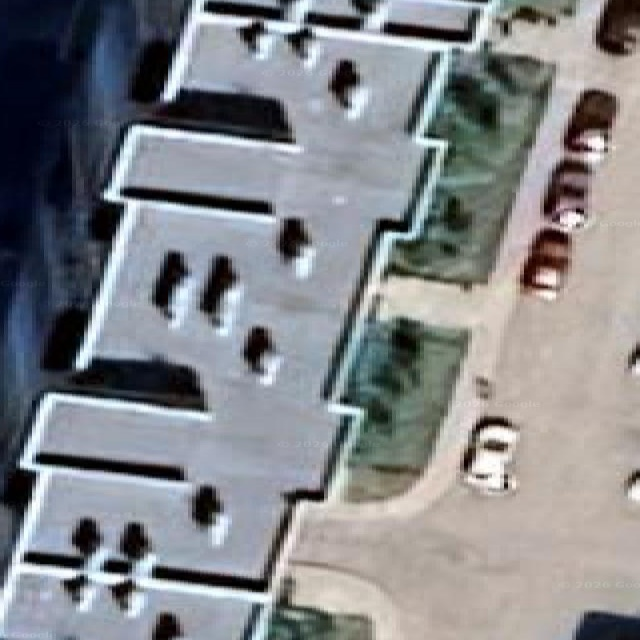car: (462, 419, 518, 494), (564, 89, 617, 163), (521, 228, 570, 299), (543, 159, 591, 231), (596, 0, 640, 56), (625, 471, 640, 503), (627, 343, 639, 376)
